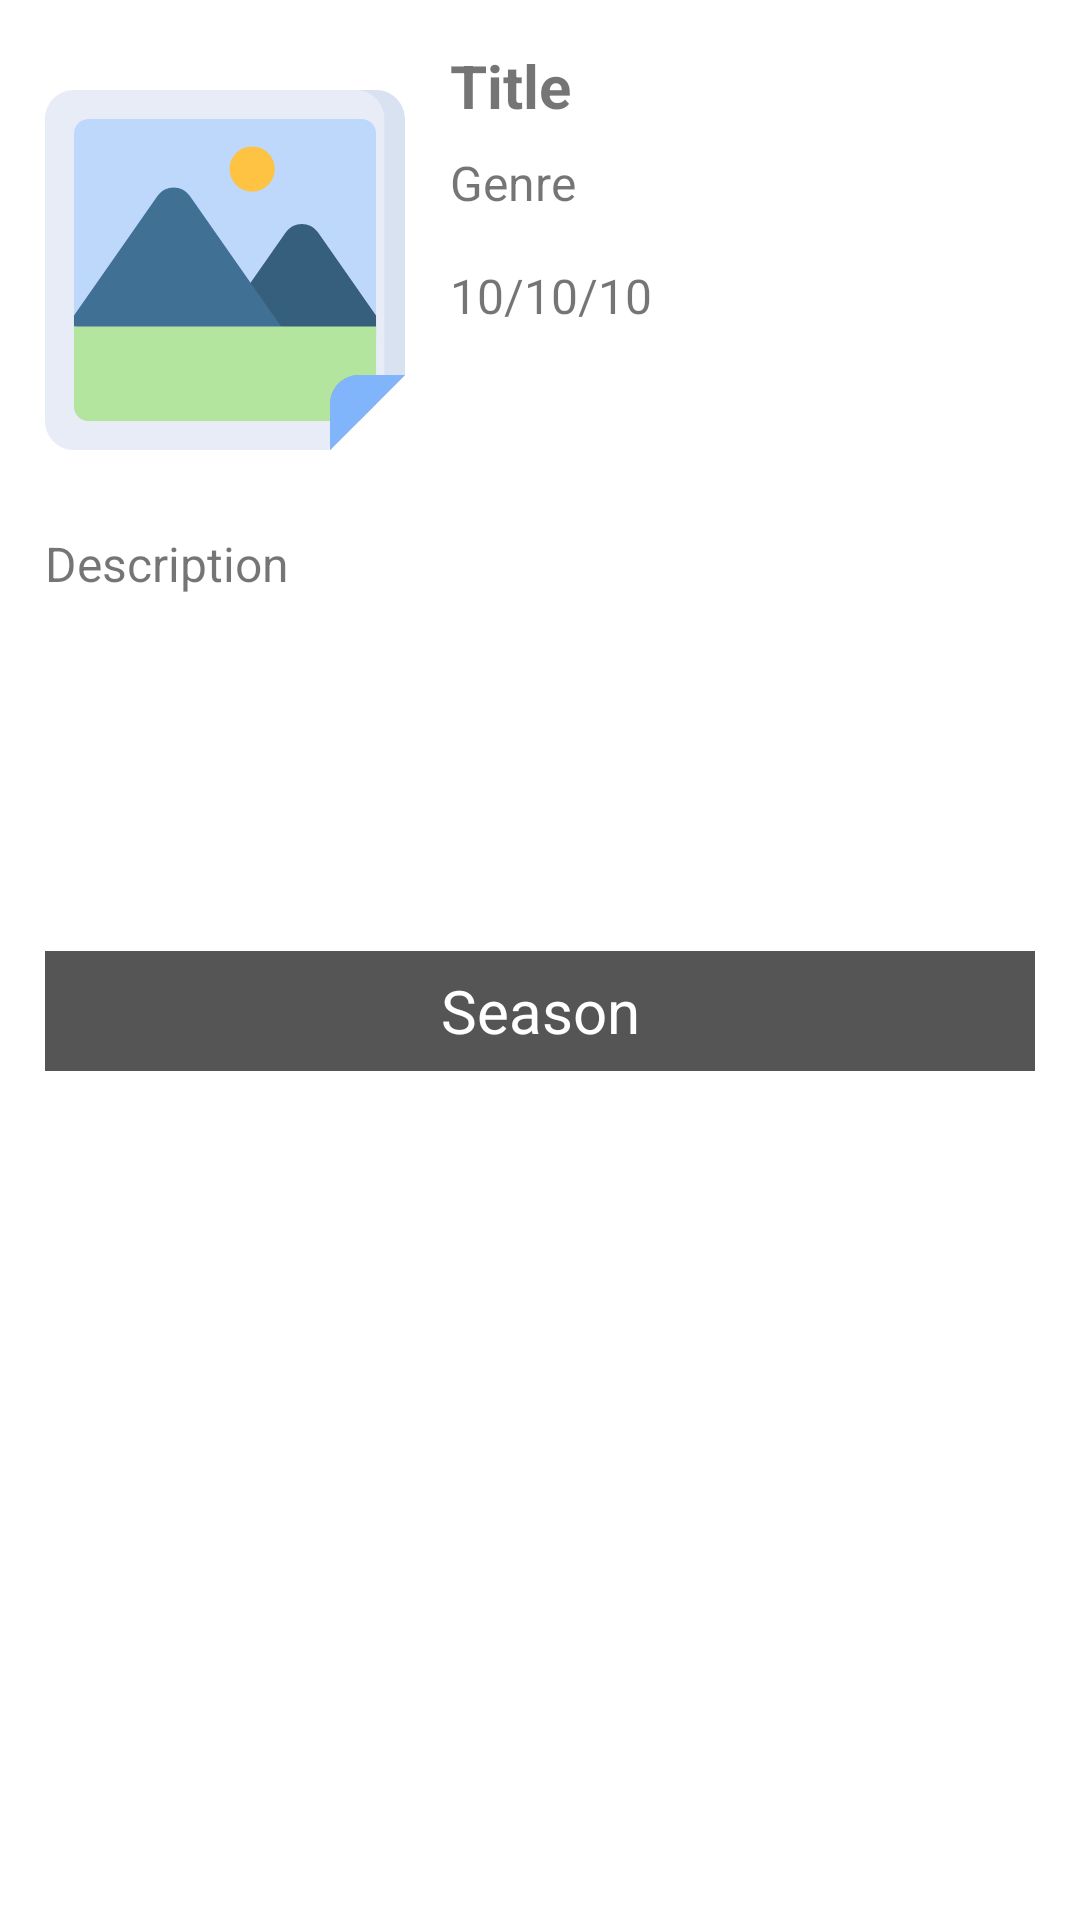

Icons on this 1080px x 1920px Android screen, each with the point to tap as [x,y]:
Movie poster: [239,270]
